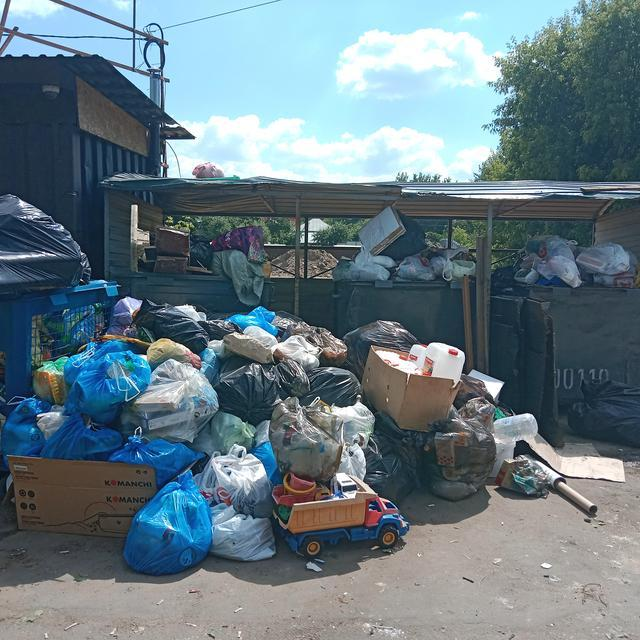Trash_Can_Full: (0, 193, 119, 408), (500, 234, 640, 398), (331, 205, 454, 342), (129, 228, 275, 311)
